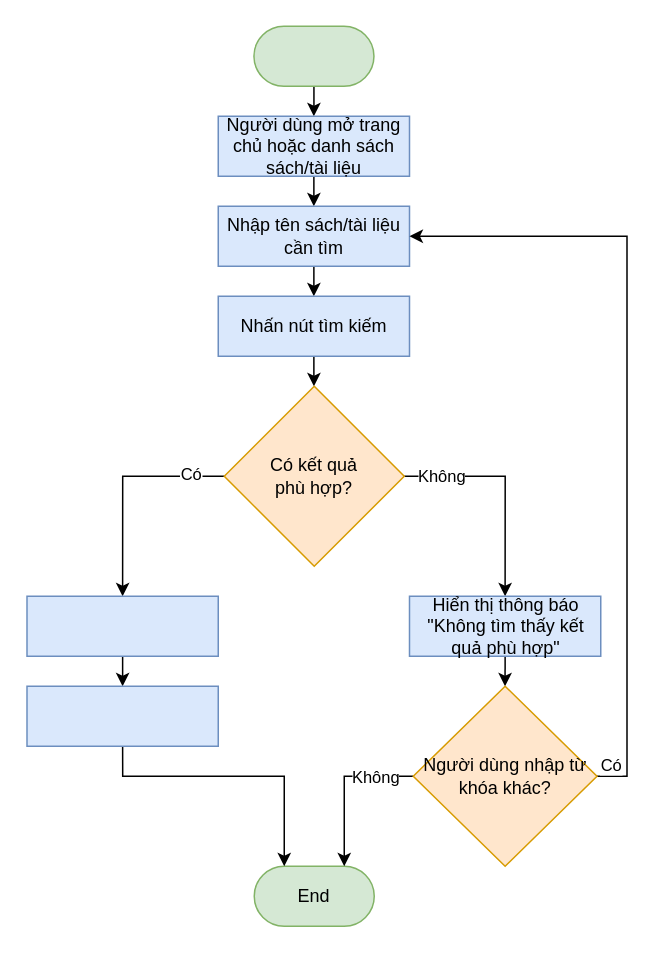
This 665x953 diagram has some shape labels left out. Here are the shapes that lost their labels. From the top down, the centre of each, then its label:
[313,55]: Start
[122,625]: Hiển thị danh sách bài đăng tương ứng
[122,715]: Người dùng chọn bài đăng để xem chi tiết
